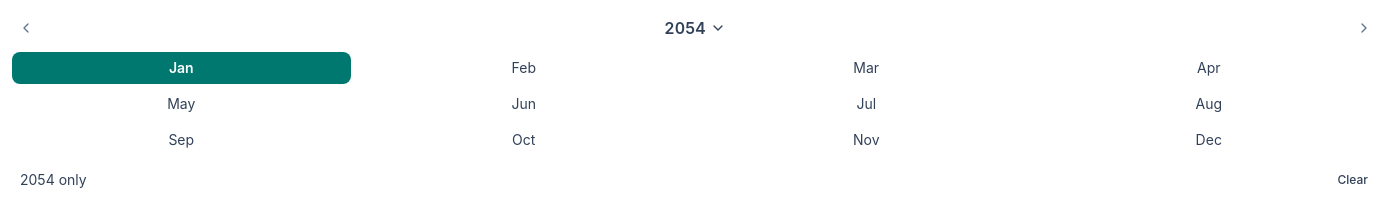
Test: the current year on the clock edge › the last allowed year moves with the clock
This screenshot has width=1390, height=205.
What coordinates should you click on to do the following:
click the button named "Next year"
I would click on:
 (1364, 28)
Its box is [1350,14,1378,42].
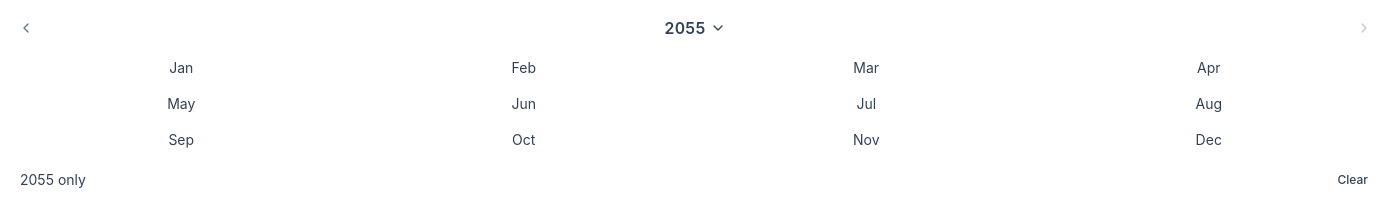
Result: the button named "Choose year, 2055" is shown at [654,12,736,44]
